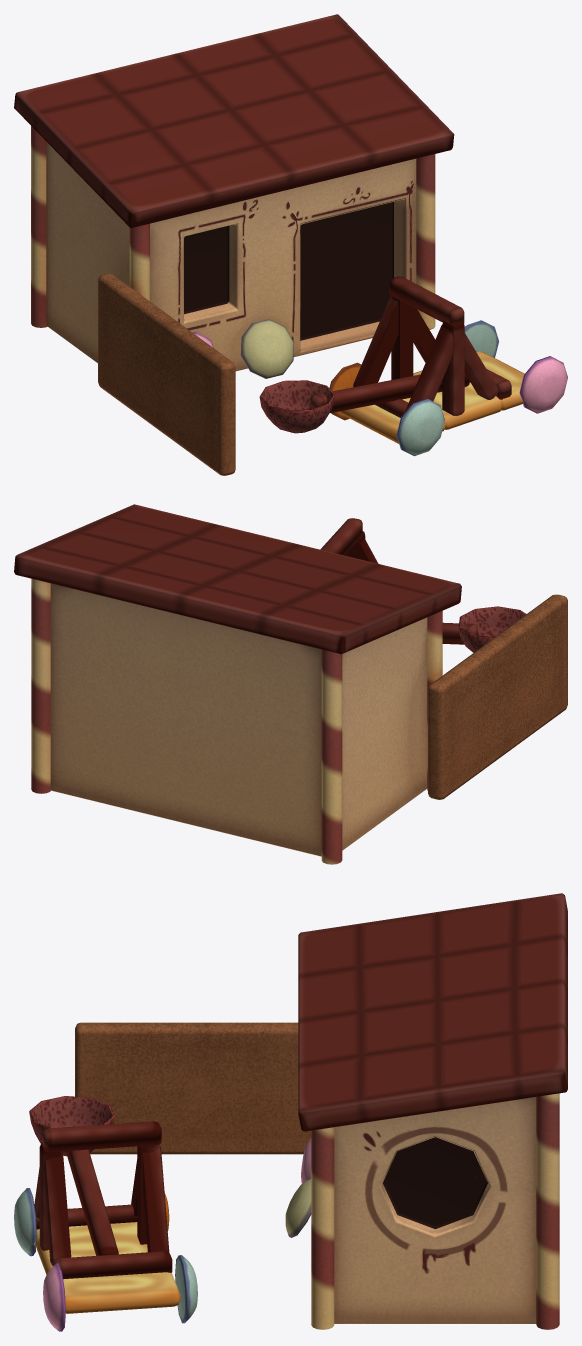
File: Mod_Tier2.gltf
3 renders of one model, top to bottom at view 1: azimuth 30°, elevation 25°; view 2: azimuth 150°, elevation 25°; view 3: azimuth 270°, elevation 25°, orthographic. The views are drawn at different scales.
Visible parts, largest first — view 1: ProducerTier2; view 2: ProducerTier2; view 3: ProducerTier2.
Part boxes in pixels (x1=…): ProducerTier2: x1=14, y1=14, x2=567, y2=475; ProducerTier2: x1=14, y1=504, x2=567, y2=864; ProducerTier2: x1=14, y1=893, x2=567, y2=1331.
Size of the model in its own units: 10.75 by 7 by 13.28.
1 material, 1 textured.
